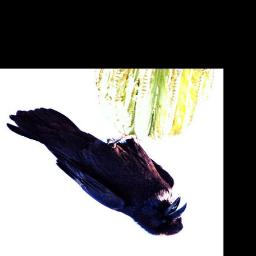Crow: (6, 107, 187, 236)
